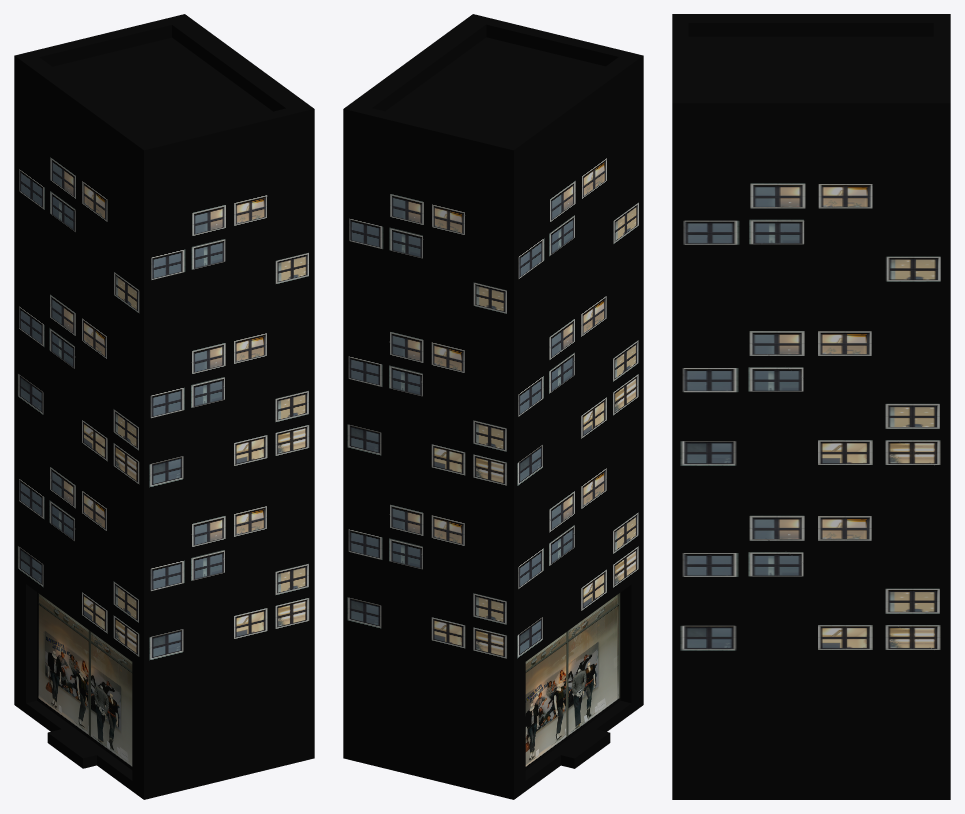
Rendered from building4.FBX.
3 views of the same model, side by side, from view 1: azimuth 30°, elevation 25°; view 2: azimuth 150°, elevation 25°; view 3: azimuth 270°, elevation 25° (orthographic). The views are drawn at different scales.
Parts seen in each view (by area): view 1: Box002; view 2: Box002; view 3: Box002.
Boxes of the visible parts, left/top/right/bottom form: Box002: left=14, top=14, right=314, bottom=799; Box002: left=343, top=14, right=643, bottom=799; Box002: left=672, top=14, right=950, bottom=799.
Size of the model in its own units: 46.46 by 156 by 56.59.
